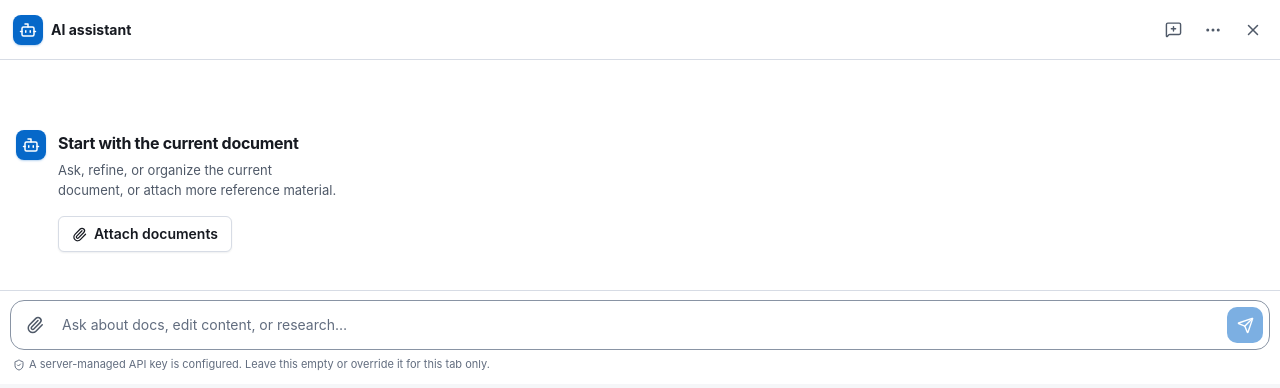
ChatPanel › presents an incomplete SSE stream as failure and skips success invalidation
The image size is (1280, 388).
Type "Start a stream" into the text box with placeholder "Ask about docs, edit content, or research…" at (640, 325), box x1=58 y1=307 x2=1222 y2=343
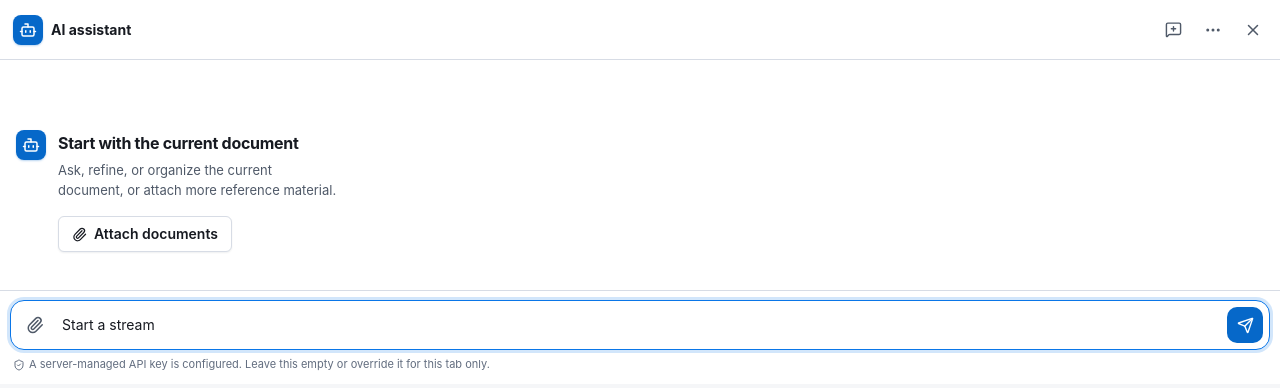
Click the button named "Send" at (1245, 325), box x1=1227 y1=307 x2=1263 y2=343
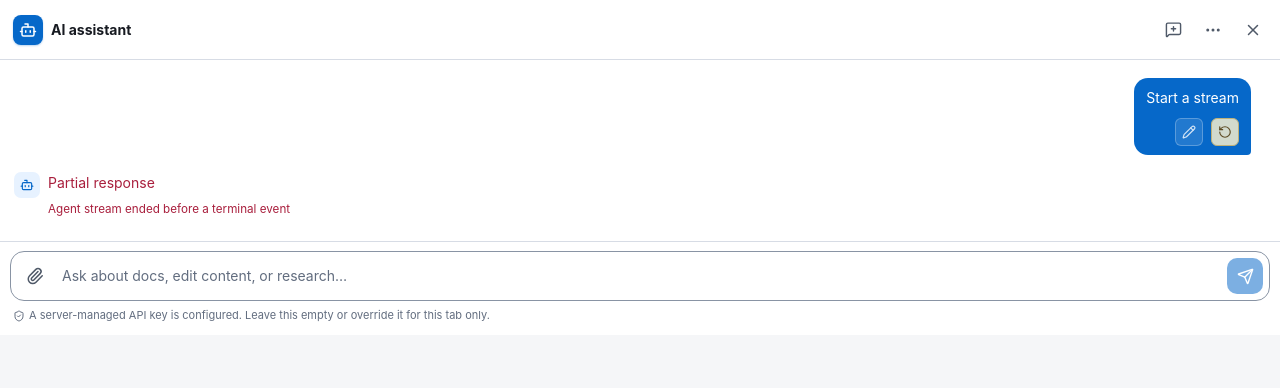
expect the message reads "Agent stream ended before a terminal event": met, box x1=48 y1=201 x2=290 y2=215
Type "Retry" into the text box with placeholder "Ask about docs, edit content, or research…" at (640, 276), box x1=58 y1=258 x2=1222 y2=294
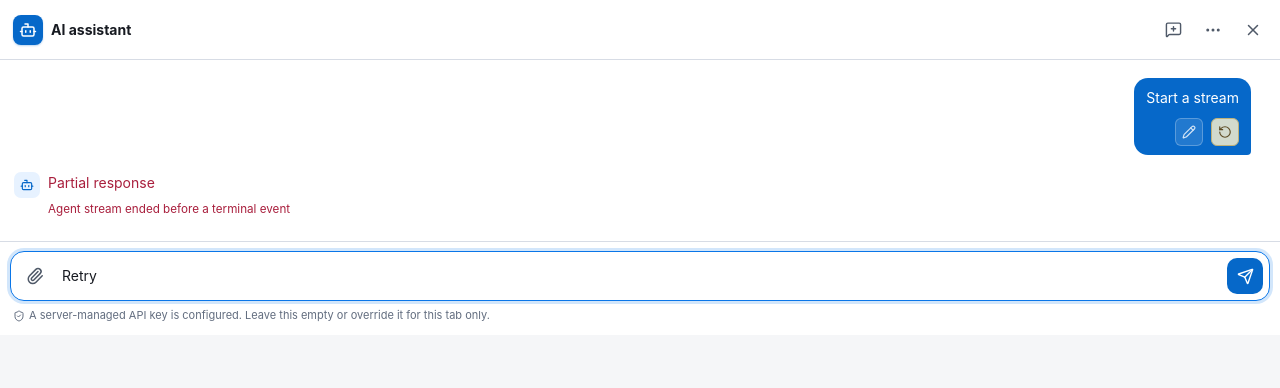
expect the button named "Send" is enabled: met, box x1=1227 y1=258 x2=1263 y2=294
